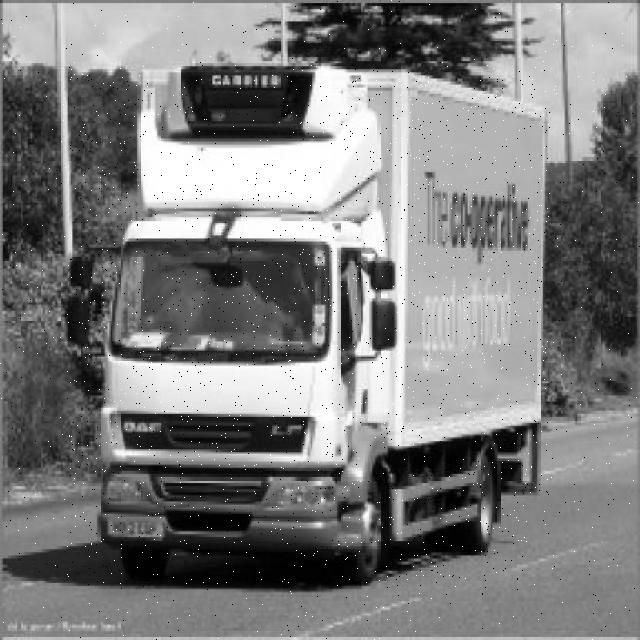Box Truck: (67, 65, 549, 585)
